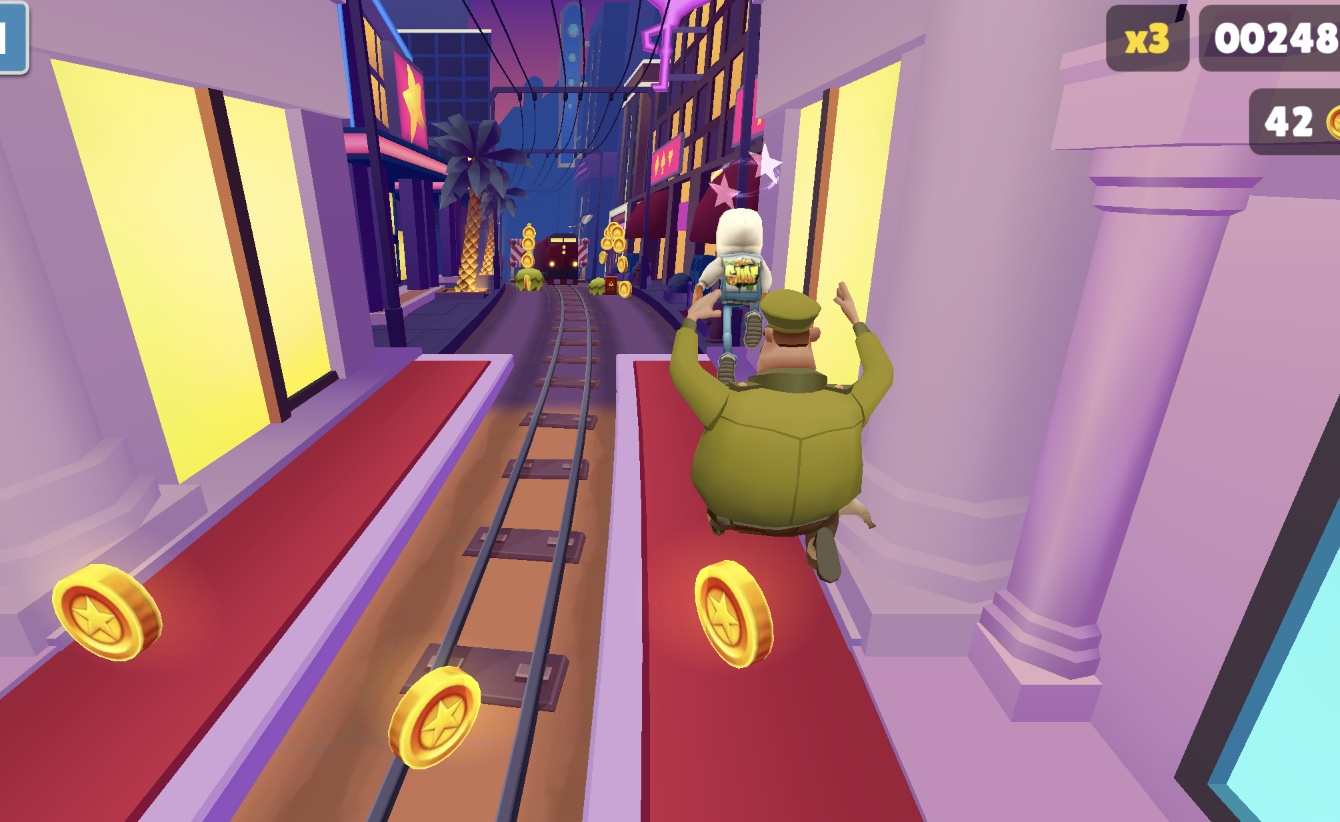bush: (514, 263, 543, 290), (588, 272, 605, 289), (615, 274, 627, 292)
overhead_barrier: (510, 232, 534, 267), (576, 231, 593, 271)
small_obstacle: (604, 268, 616, 289)
train: (534, 232, 588, 286)
